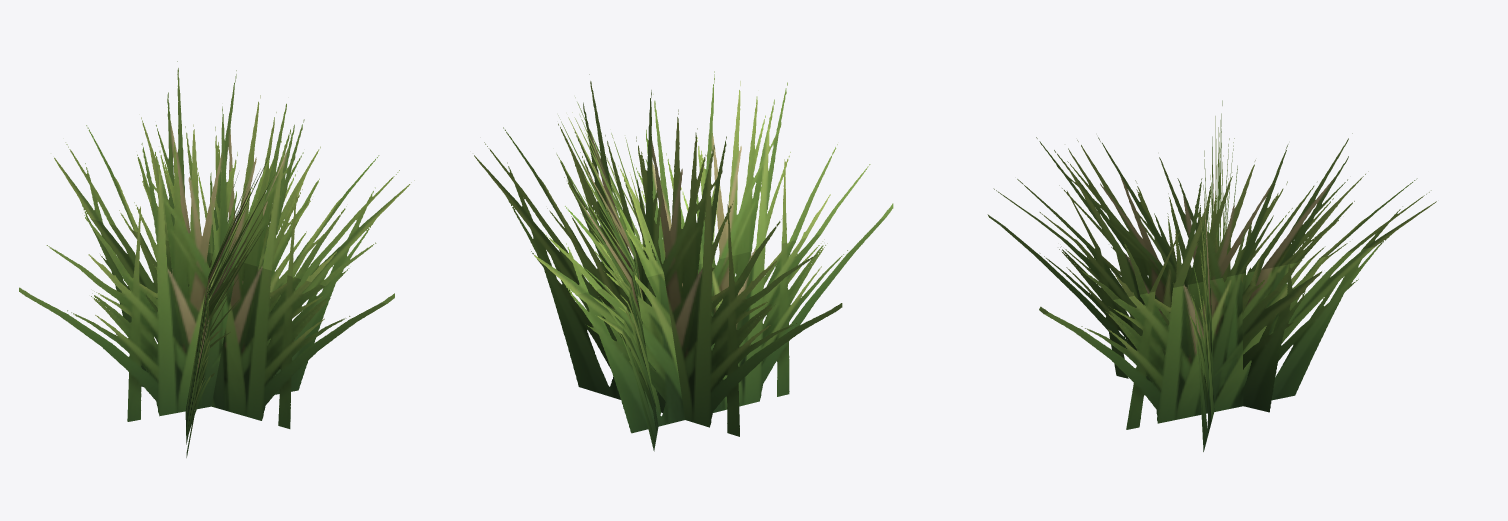
File: grass_tuft.glb
3 renders of one model, left to right at view 1: azimuth 30°, elevation 25°; view 2: azimuth 150°, elevation 25°; view 3: azimuth 270°, elevation 25°, orthographic. The views are drawn at different scales.
Visible parts, largest first — view 1: grass_tuft_mesh; view 2: grass_tuft_mesh; view 3: grass_tuft_mesh.
Boxes of the visible parts, left/top/right/bottom form: grass_tuft_mesh: left=19, top=61, right=414, bottom=457; grass_tuft_mesh: left=474, top=71, right=893, bottom=451; grass_tuft_mesh: left=987, top=100, right=1436, bottom=451.
Size of the model in its own units: 0.3748 by 0.2807 by 0.4652.
Materials: 1 (1 with a texture image).
